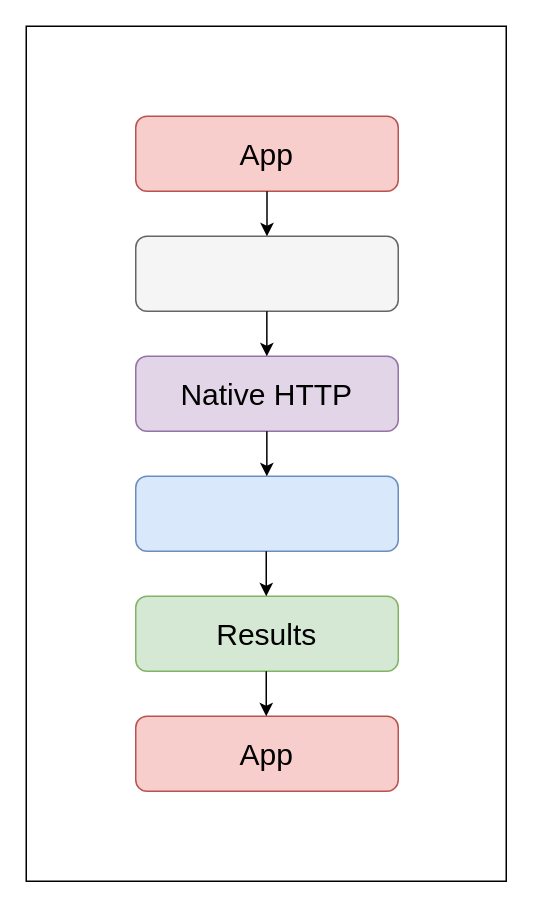
This 533x908 diagram has some shape labels left out. Here are the shapes that lost their labels. From the top down, the box of each, then its label:
(134, 235, 398, 311): Extractor
(134, 475, 398, 551): Parser
